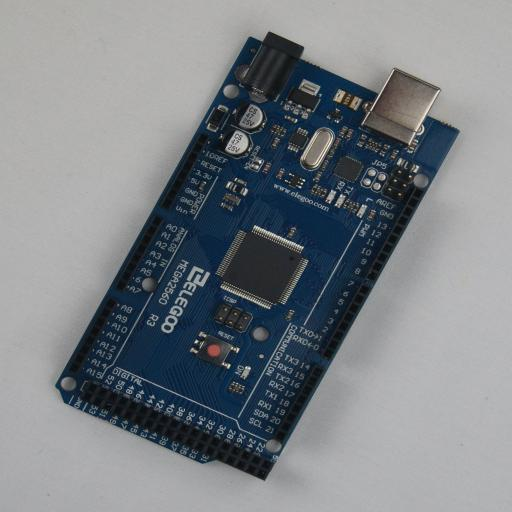Arduino Mega 2560 -Blue-: (56, 32, 460, 480)
